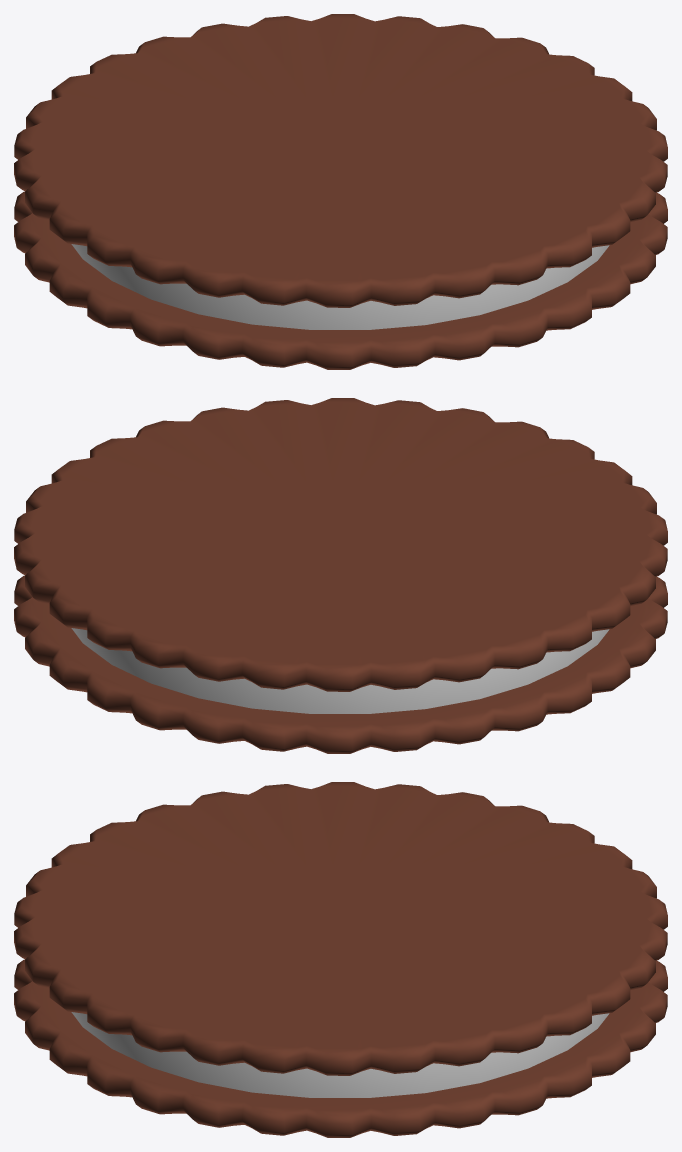
File: Keks.fbx
3 renders of one model, top to bottom at view 1: azimuth 30°, elevation 25°; view 2: azimuth 150°, elevation 25°; view 3: azimuth 270°, elevation 25°, orthographic.
Visible parts, largest first — view 1: Keks; view 2: Keks; view 3: Keks.
Part boxes in pixels (x1,y1,x2,y2): Keks: (14,14,667,369); Keks: (14,398,667,753); Keks: (14,782,667,1137).
Size of what is drawn, in the model's own units: 210 by 30 by 210.
